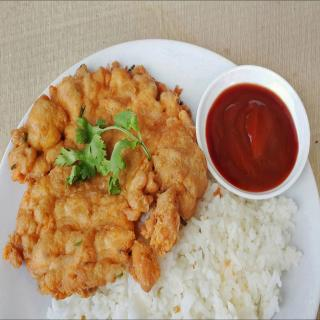carbs: (169, 198, 289, 318), (50, 276, 165, 320)
omelet_rice: (22, 68, 286, 318)
veg: (65, 122, 147, 187)
